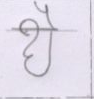ai_matra: (34, 1, 56, 27)
